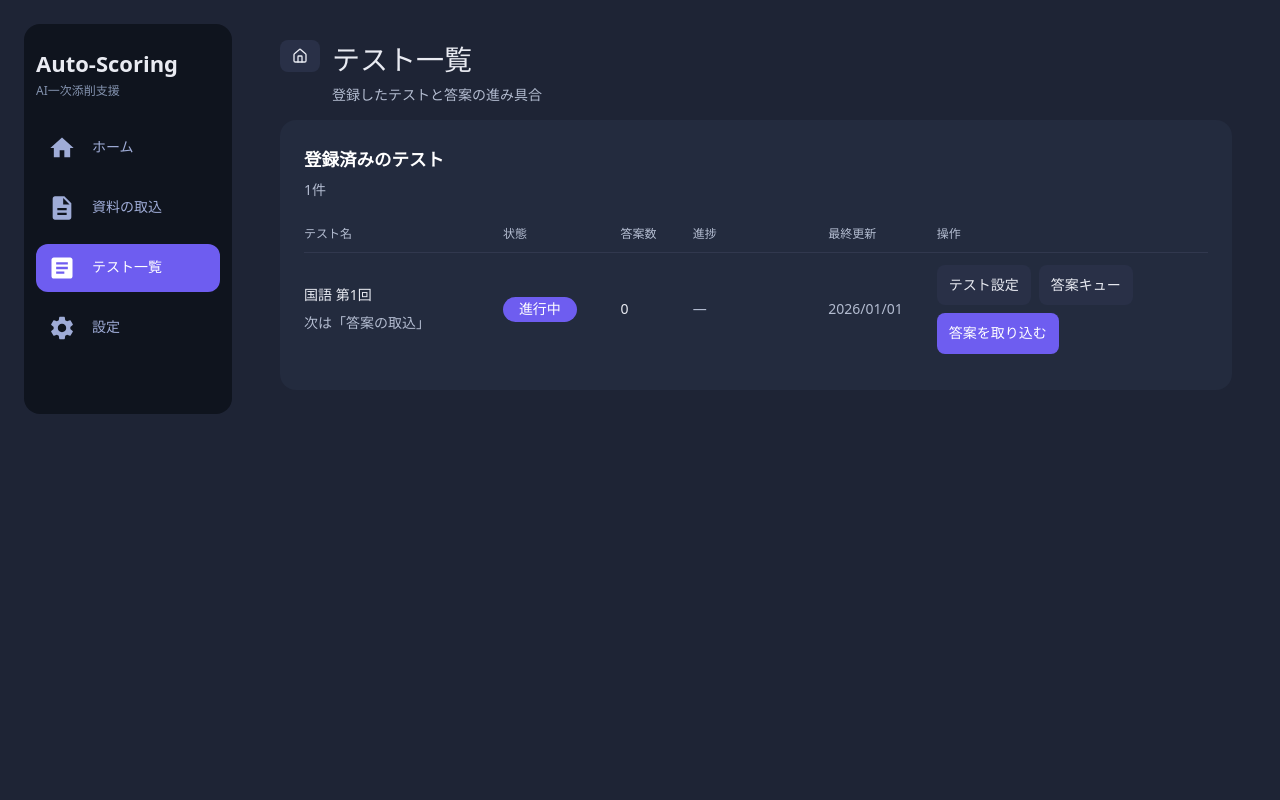
Test: TestListPage (Issue #379) › opens the intake screen with this test already chosen as the destination (Issue #414)
Expected: the row with test id "test-list-row-t1" is shown, [304,252,1208,366]
Step 1. Click the button with test id "test-list-add-answers-t1" → coordinates (998, 334), box [937,313,1059,354]
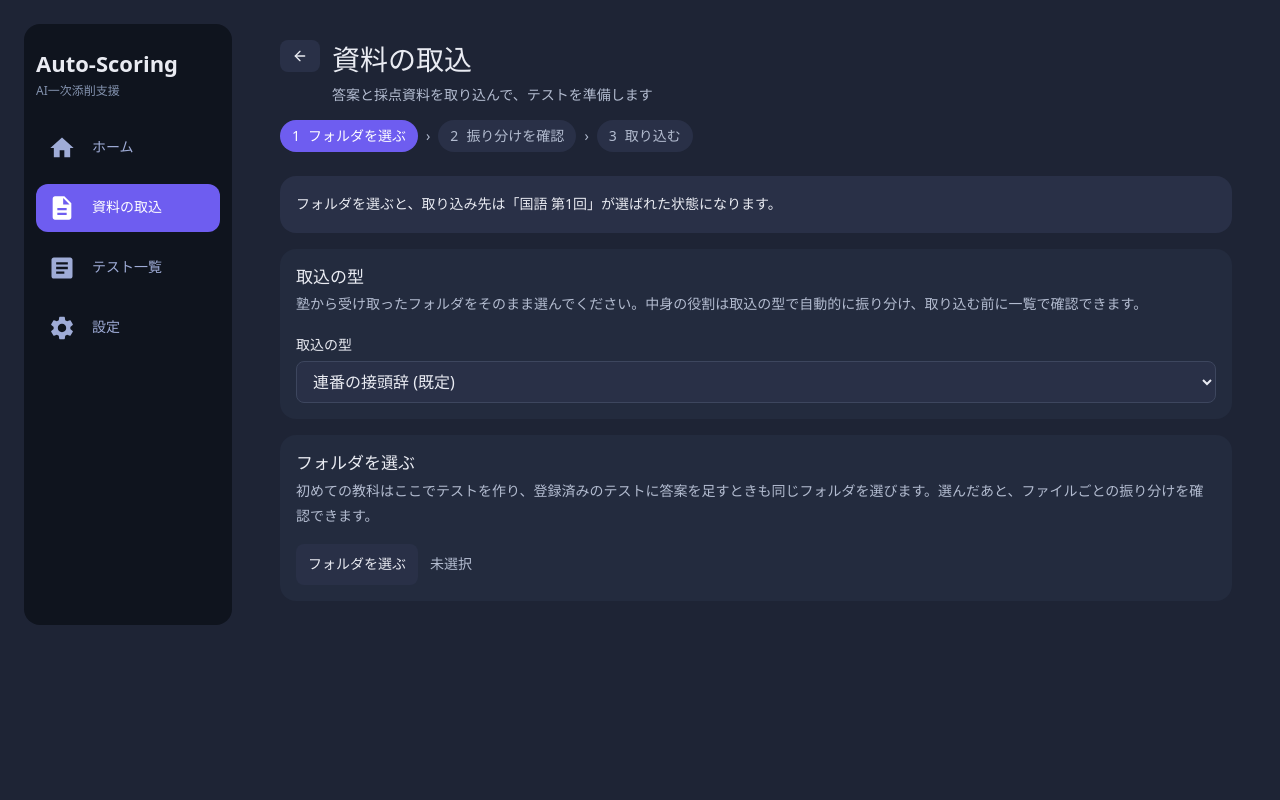
Expected: the element with test id "intake-target-summary" is shown, [280,176,1232,233]
Expected: the heading with test id "page-title" reads "資料の取込", [332,40,472,78]
Expected: the element with test id "intake-target-summary" shows "国語 第1回", [520,194,587,213]
